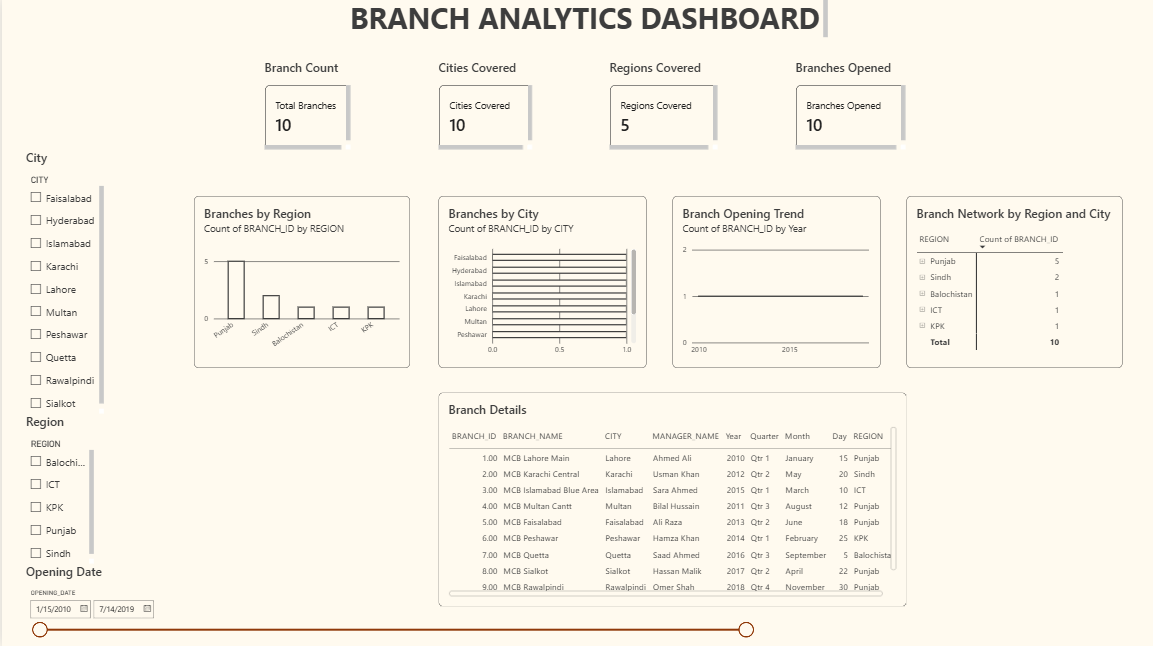

Layout of this report page (visuals, bound fields, positions):
{"tool":"powerbi","page":{"name":"Branch Dashboard","canvas":[1920,1080],"ordinal":3},"visuals":[{"type":"textbox","box":[580,0,796.7,73.3],"z":0},{"type":"cardVisual","title":"Branch Count","fields":{"Data":["ACCOUNTS.Total Branches"]},"box":[436.7,103.3,143.3,150],"z":1000},{"type":"cardVisual","title":"Cities Covered","fields":{"Data":["BRANCHES.Cities Covered"]},"box":[726.7,103.3,156.7,150],"z":2000},{"type":"cardVisual","title":"Regions Covered","fields":{"Data":["ACCOUNTS.Regions Covered"]},"box":[1013.3,103.3,180,150],"z":3000},{"type":"cardVisual","title":"Branches Opened","fields":{"Data":["ACCOUNTS.Branches Opened"]},"box":[1323.3,103.3,183.3,150],"z":4000},{"type":"slicer","title":"City","fields":{"Values":["BRANCHES.CITY"]},"box":[40,253.3,130,440],"z":5000},{"type":"slicer","title":"Region","fields":{"Values":["BRANCHES.REGION"]},"box":[40,693.3,113.3,250],"z":6000},{"type":"slicer","title":"Opening Date","fields":{"Values":["BRANCHES.OPENING_DATE"]},"box":[40,943.3,1216.7,136.7],"z":7000},{"type":"clusteredColumnChart","title":"Branches by Region","fields":{"Category":["BRANCHES.REGION"],"Y":["CountNonNull(BRANCHES.BRANCH_ID)"]},"box":[320,330,360,286.7],"z":8000},{"type":"clusteredBarChart","title":"Branches by City","fields":{"Category":["BRANCHES.CITY"],"Y":["CountNonNull(BRANCHES.BRANCH_ID)"]},"box":[726.7,330,346.7,286.7],"z":9000},{"type":"lineChart","title":"Branch Opening Trend","fields":{"Category":["BRANCHES.OPENING_DATE.Variation.Date Hierarchy.Year","BRANCHES.OPENING_DATE.Variation.Date Hierarchy.Quarter","BRANCHES.OPENING_DATE.Variation.Date Hierarchy.Month","BRANCHES.OPENING_DATE.Variation.Date Hierarchy.Day"],"Y":["CountNonNull(BRANCHES.BRANCH_ID)"]},"box":[1116.7,330,346.7,286.7],"z":10000},{"type":"pivotTable","title":"Branch Network by Region and City","fields":{"Rows":["BRANCHES.REGION","BRANCHES.CITY"],"Values":["CountNonNull(BRANCHES.BRANCH_ID)"]},"box":[1506.7,330,360,286.7],"z":11000},{"type":"tableEx","title":"Branch Details","fields":{"Values":["BRANCHES.BRANCH_ID","BRANCHES.BRANCH_NAME","BRANCHES.CITY","BRANCHES.MANAGER_NAME","BRANCHES.OPENING_DATE.Variation.Date Hierarchy.Year","BRANCHES.OPENING_DATE.Variation.Date Hierarchy.Quarter","BRANCHES.OPENING_DATE.Variation.Date Hierarchy.Month","BRANCHES.OPENING_DATE.Variation.Date Hierarchy.Day","BRANCHES.REGION"]},"box":[726.7,656.7,780,356.7],"z":12000}]}

Visuals, with their boxes in screenshot pixels (x1, y1, x2, y2), scaled from the page's 1920x1080 canvas onto the 1153x646 screenshot:
textbox: box=[348, 0, 827, 44]
"Branch Count" cardVisual: box=[262, 62, 348, 152]
"Cities Covered" cardVisual: box=[436, 62, 531, 152]
"Regions Covered" cardVisual: box=[609, 62, 717, 152]
"Branches Opened" cardVisual: box=[795, 62, 905, 152]
"City" slicer: box=[24, 152, 102, 415]
"Region" slicer: box=[24, 415, 92, 564]
"Opening Date" slicer: box=[24, 564, 755, 645]
"Branches by Region" clusteredColumnChart: box=[192, 197, 408, 369]
"Branches by City" clusteredBarChart: box=[436, 197, 645, 369]
"Branch Opening Trend" lineChart: box=[671, 197, 879, 369]
"Branch Network by Region and City" pivotTable: box=[905, 197, 1121, 369]
"Branch Details" tableEx: box=[436, 393, 905, 606]
